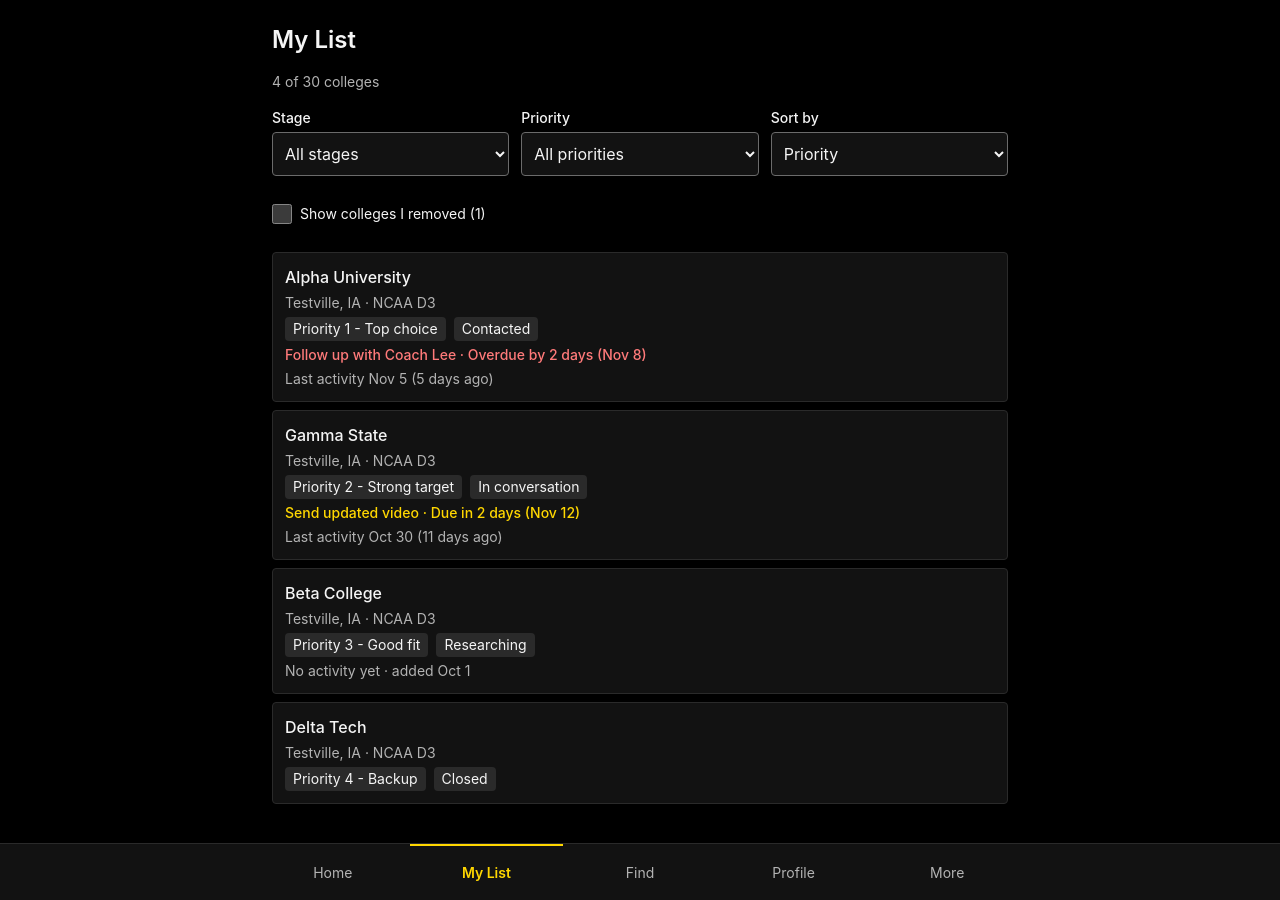
it: My List › shows removed colleges on request
Click the checkbox labelled "Show colleges I removed (1)": click(282, 214) [272, 204, 292, 224]
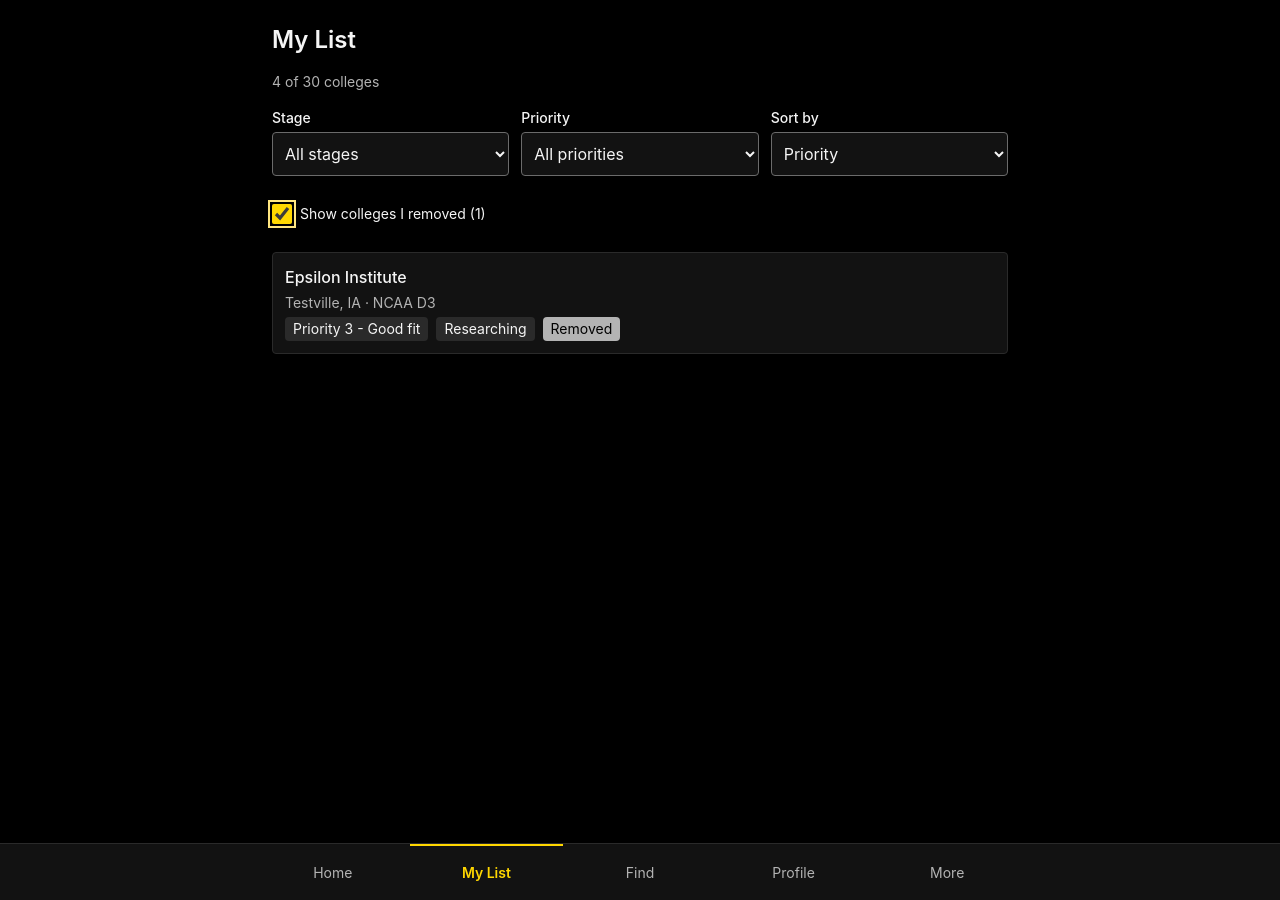
Expected: the link "Epsilon" shows "Removed", [272, 252, 1008, 354]
